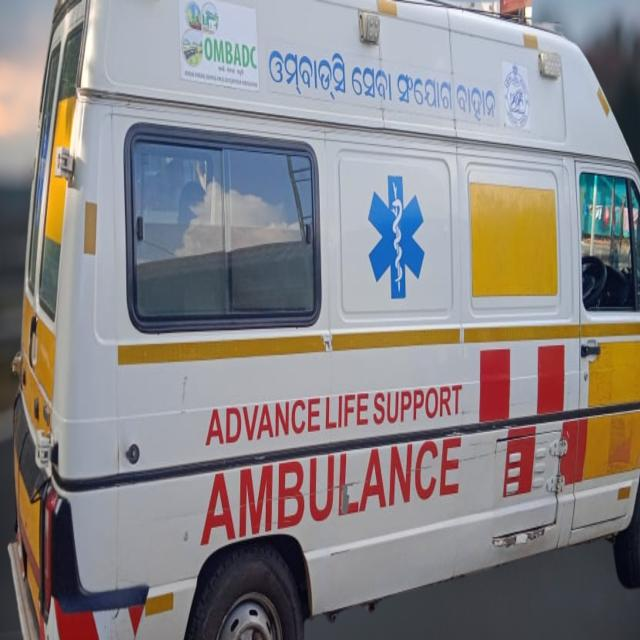emergency: (10, 0, 640, 638)
